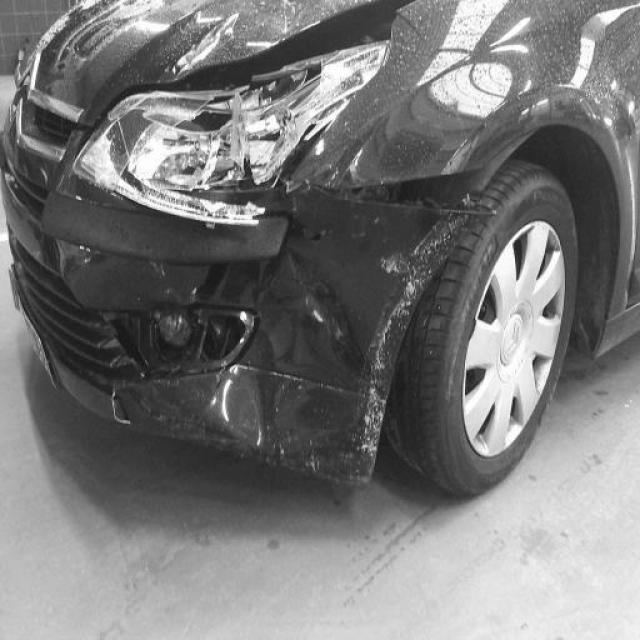dent: (108, 171, 481, 480)
scratch: (357, 193, 469, 464), (95, 371, 140, 428)
shatter: (76, 3, 395, 218)
